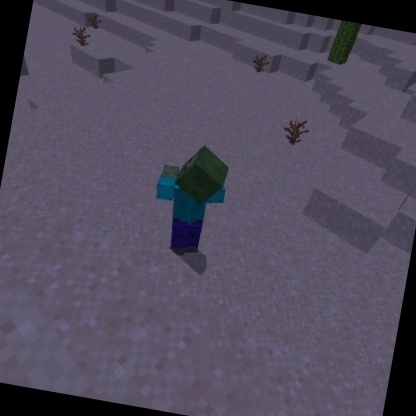zombie: (141, 135, 238, 266)
